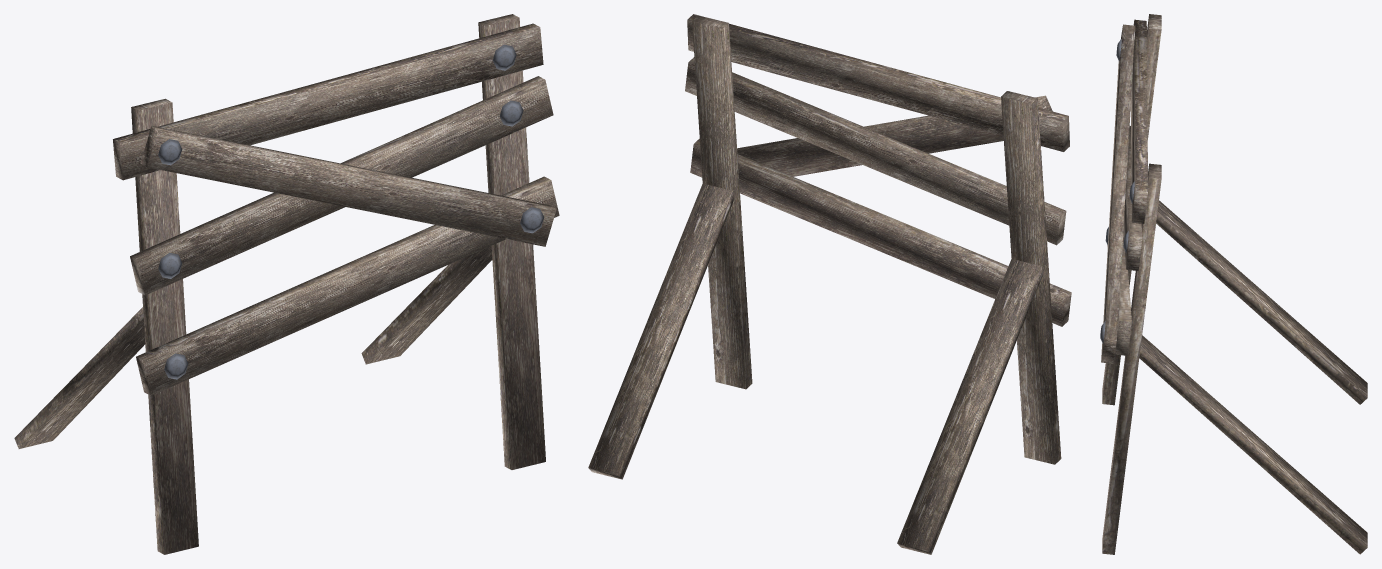
File: barricade.fbx
3 renders of one model, left to right at view 1: azimuth 30°, elevation 25°; view 2: azimuth 150°, elevation 25°; view 3: azimuth 270°, elevation 25°, orthographic. The views are drawn at different scales.
Parts seen in each view (by area): view 1: planks, screws; view 2: planks; view 3: planks, screws.
Part boxes in pixels (x1,y1,x2,y2): planks: (14, 14, 559, 554); screws: (158, 44, 544, 379); planks: (588, 14, 1071, 554); planks: (1101, 14, 1367, 554); screws: (1100, 39, 1134, 343).
Bounding box in the file's own units: 508 × 789 × 831.
